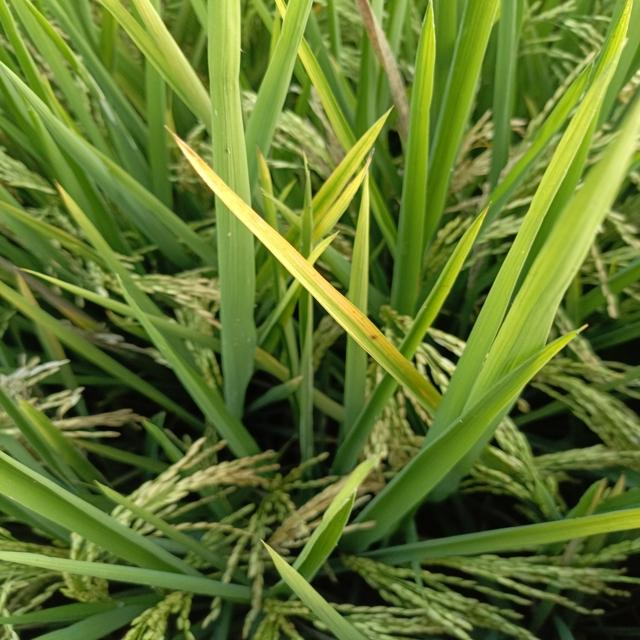Brown spot: (160, 121, 442, 418)
